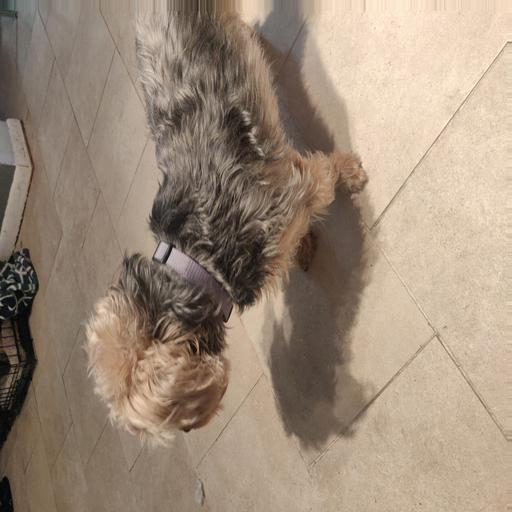dog: (62, 121, 369, 428)
